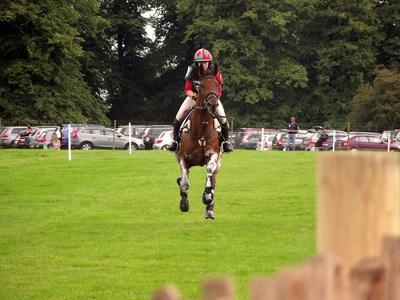person: (171, 49, 234, 154)
